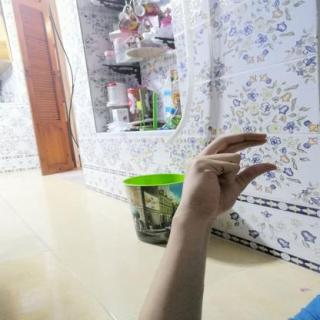DHELL: (172, 126, 286, 221)
